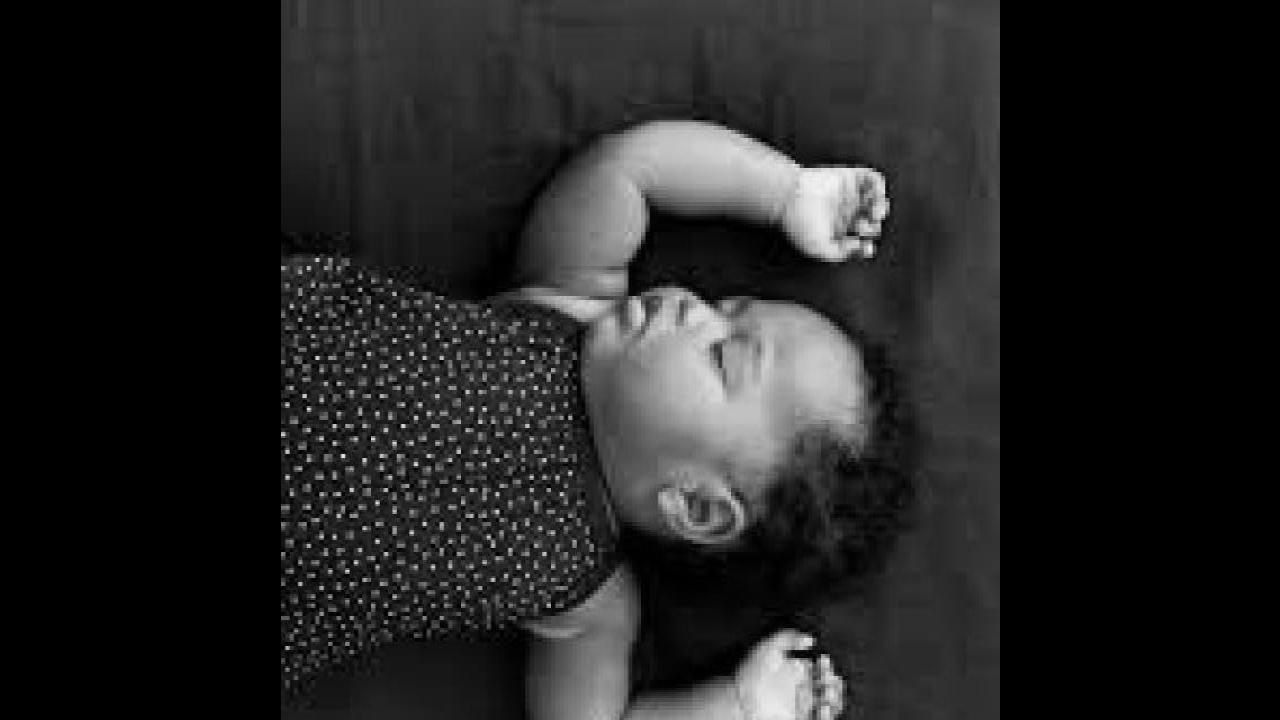hand: (781, 155, 893, 277), (735, 618, 847, 720)
